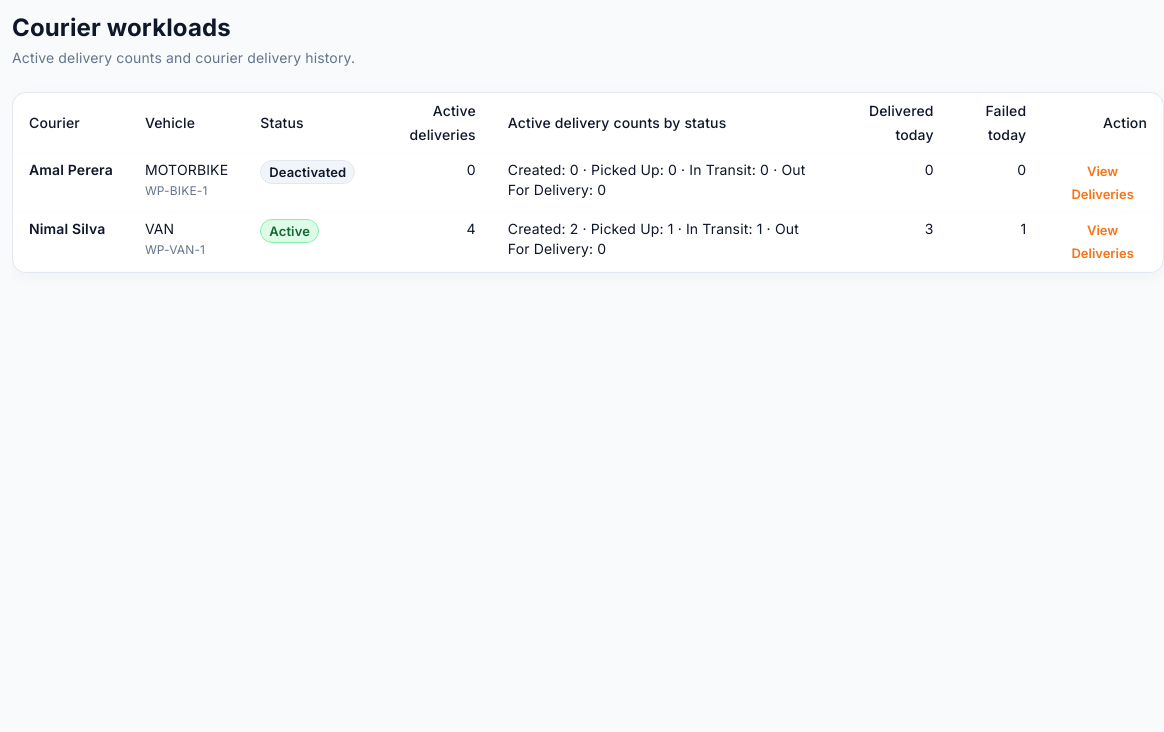
Scenario: TST-040 Member #7 courier workloads › shows an empty state when the selected courier has no scoped deliveries
Click the button with aria-label "View deliveries for Nimal Silva".
click(1103, 242)  # box [1058,219,1147,265]
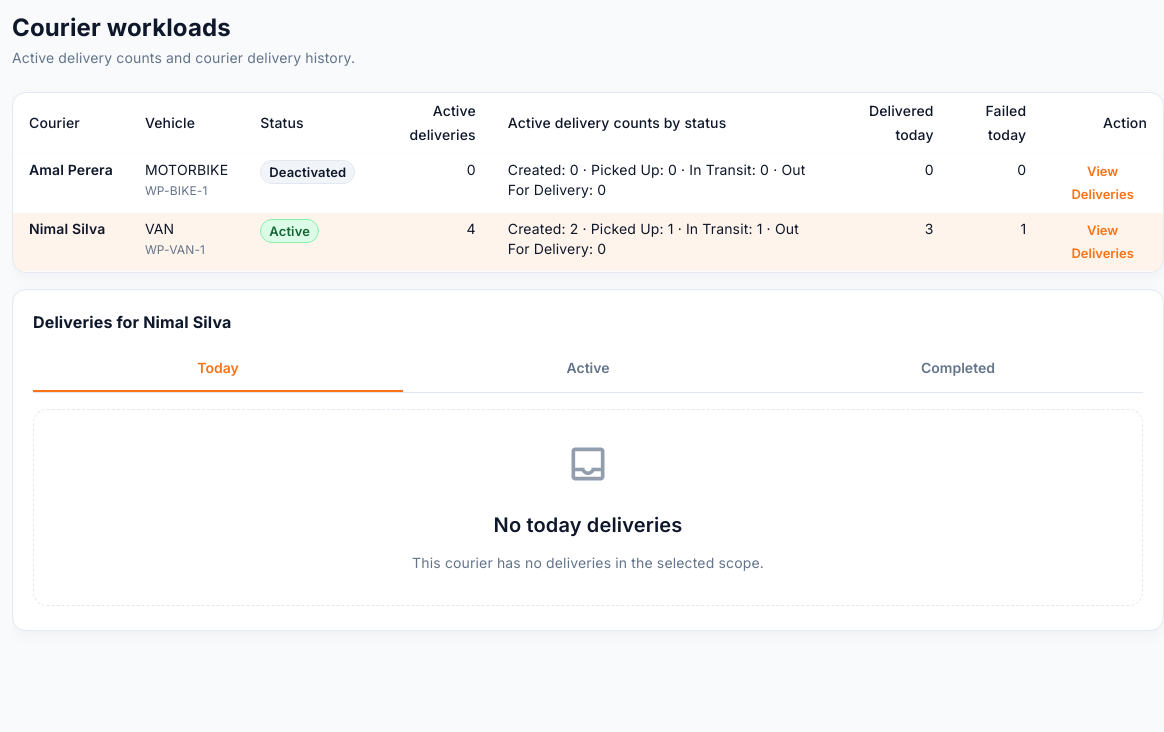
expect the heading "No today deliveries" is shown: met, box [494,509,682,541]
